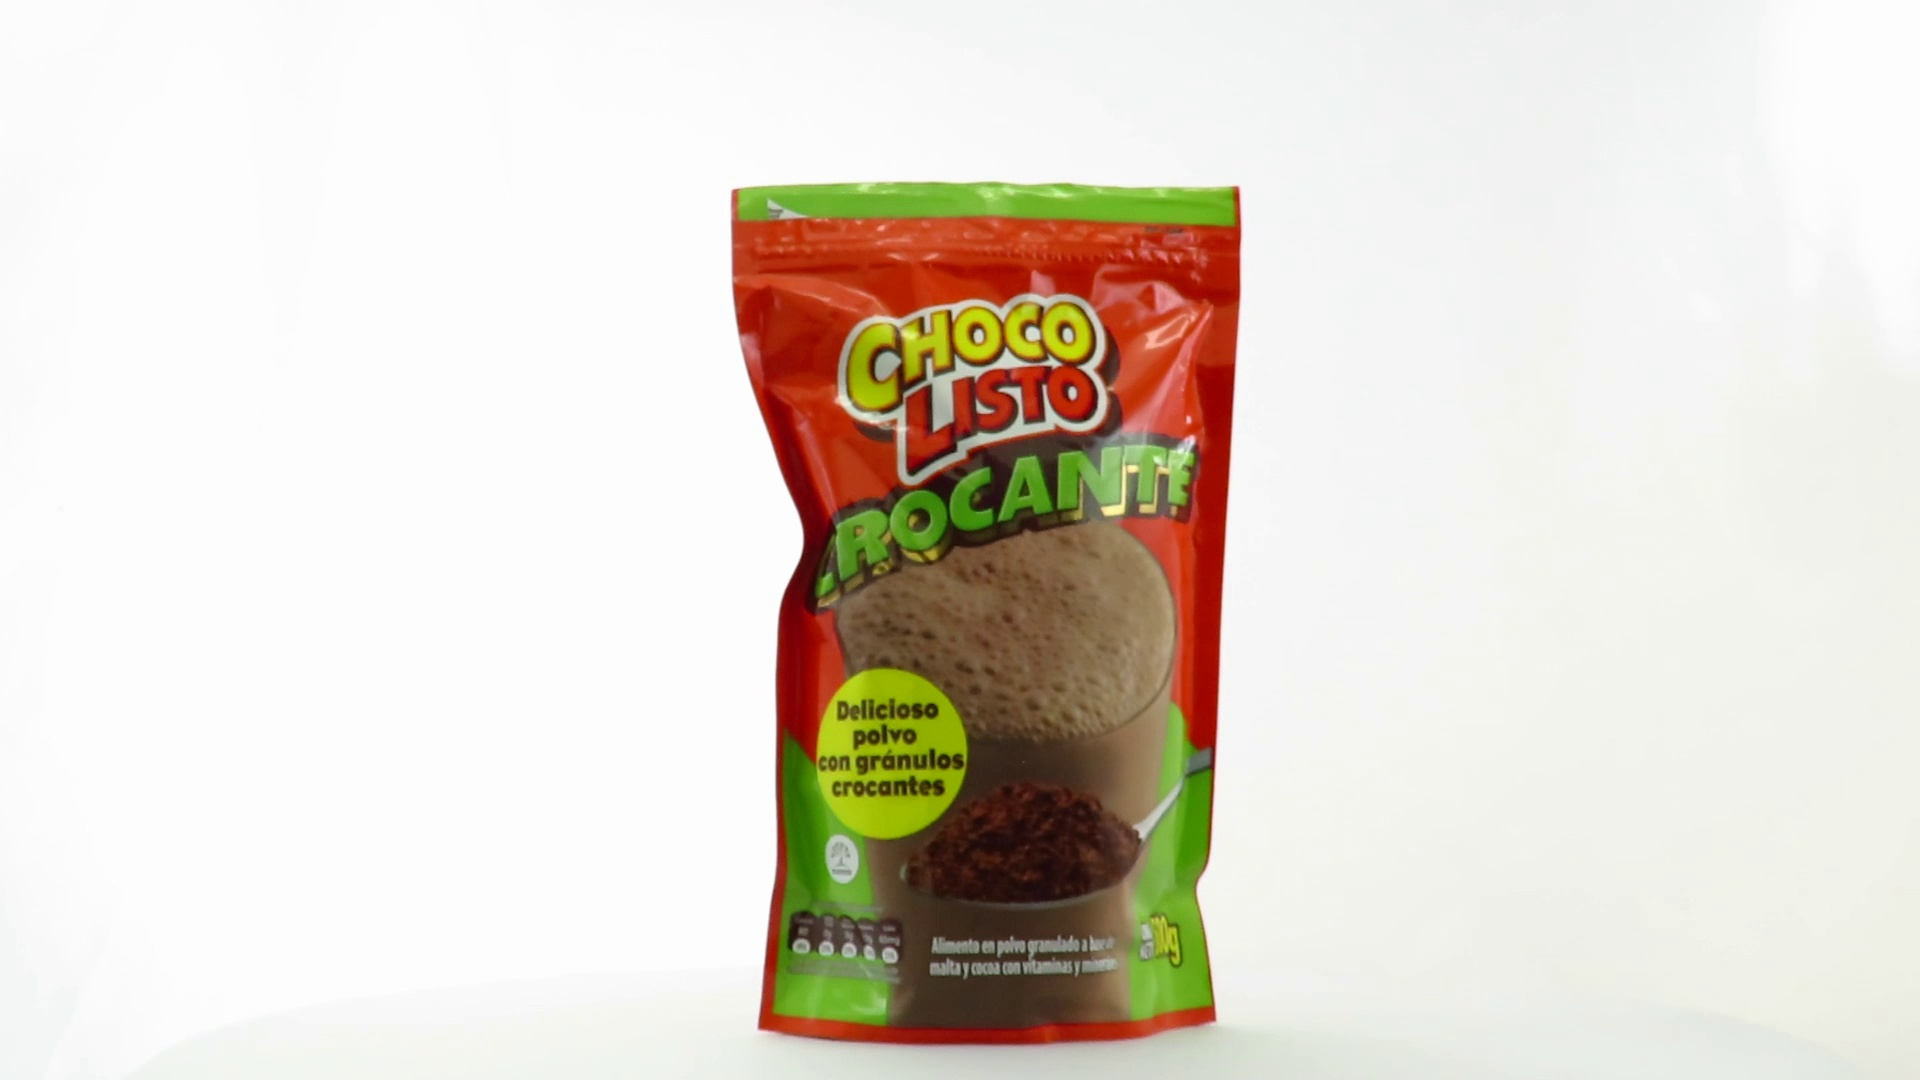COL0170102DYP50000: (727, 175, 1247, 1052)
